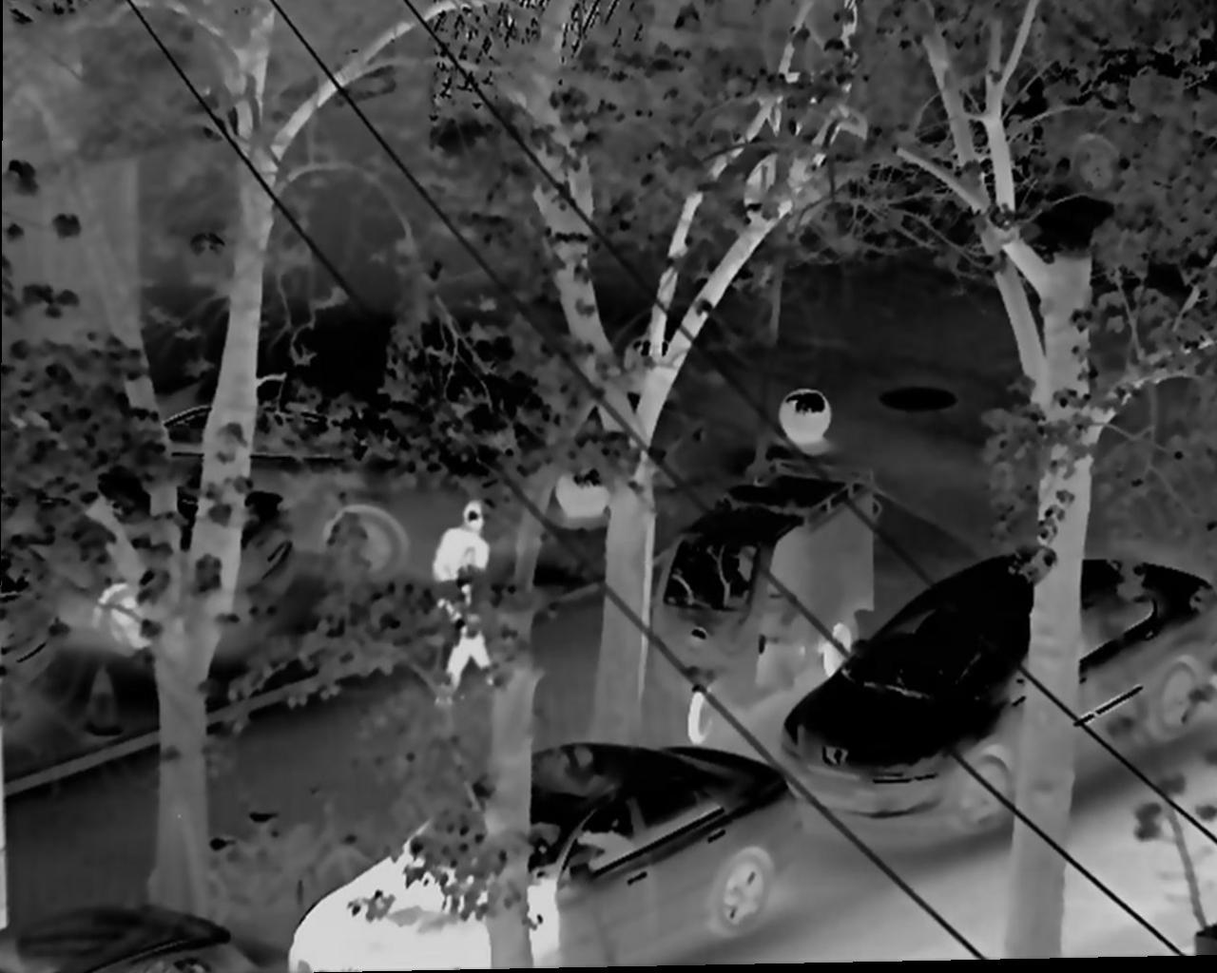person: (429, 488, 507, 707)
